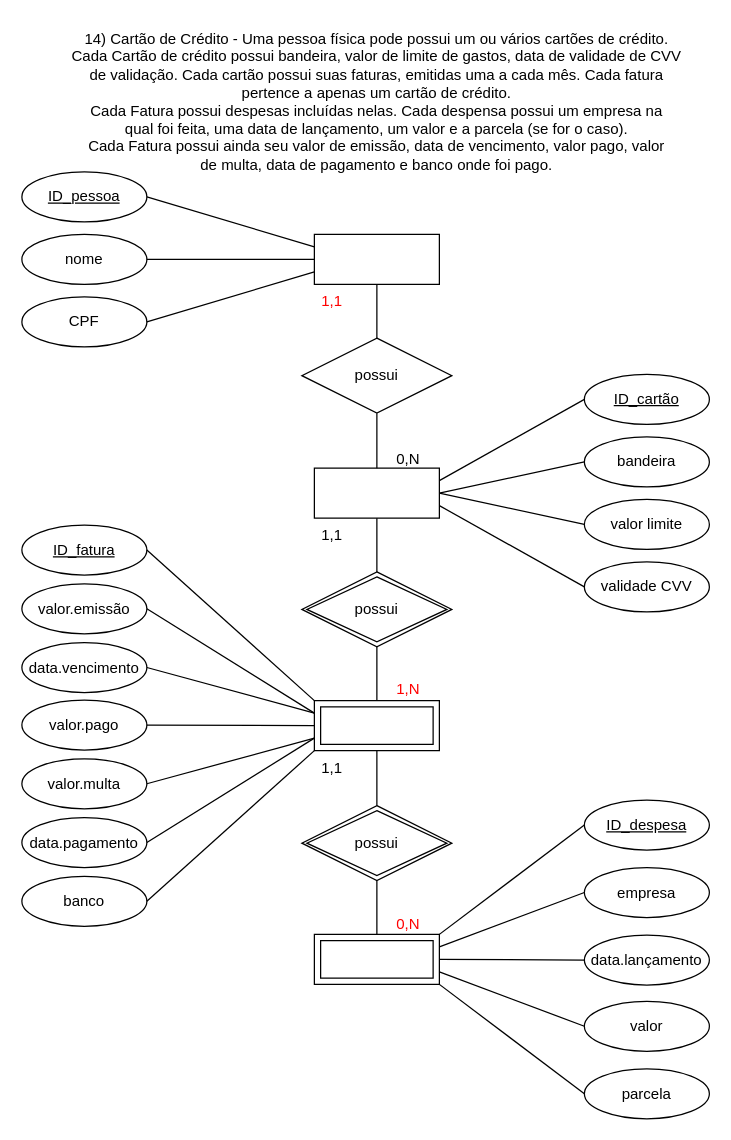
This 731x1140 diagram has some shape labels left out. The shapes that lost their labels are listed below. From the top down, each one's centre as x and y in pixels, then its label:
At [376,258]: "Pessoa".
At [376,492]: "Cartão de Crédito".
At [376,725]: "Fatura".
At [376,958]: "Despesas".
